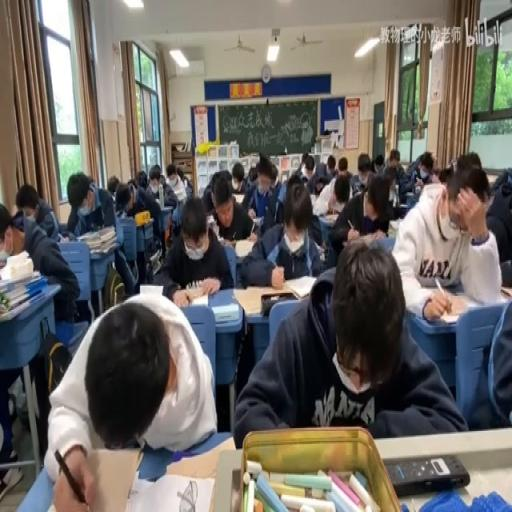calculator: (58, 442, 140, 509), (128, 469, 216, 512), (158, 434, 232, 480), (230, 283, 288, 314), (0, 291, 38, 321), (0, 266, 39, 292), (283, 273, 317, 297), (212, 302, 240, 324), (234, 238, 258, 258), (310, 193, 330, 215), (138, 283, 164, 296), (187, 290, 210, 304), (148, 248, 161, 272), (396, 202, 410, 219), (172, 193, 184, 212), (405, 192, 418, 208), (209, 218, 219, 238), (230, 192, 245, 205), (320, 212, 339, 222), (388, 218, 398, 236), (499, 283, 511, 297), (250, 213, 262, 226), (222, 238, 236, 248), (155, 196, 164, 209), (58, 235, 69, 243)
paper: (236, 244, 462, 442), (0, 190, 78, 466), (390, 160, 501, 312), (242, 180, 322, 286), (158, 192, 232, 299), (462, 286, 510, 429), (328, 171, 394, 256), (66, 169, 114, 238), (485, 166, 512, 263), (400, 148, 438, 202), (154, 164, 180, 234), (200, 168, 234, 216), (112, 245, 137, 297), (0, 204, 21, 258), (464, 164, 490, 204), (304, 155, 329, 193), (348, 155, 370, 195), (380, 151, 402, 185), (228, 158, 246, 193), (334, 175, 350, 205), (174, 164, 190, 192), (285, 172, 304, 191), (106, 175, 120, 196), (372, 152, 384, 174), (298, 152, 310, 174), (438, 165, 451, 185), (134, 171, 148, 189), (148, 165, 160, 186), (269, 162, 278, 189), (466, 151, 482, 166), (247, 166, 258, 184), (338, 155, 347, 174), (118, 204, 130, 218), (326, 155, 335, 172), (166, 164, 175, 180), (126, 176, 136, 190), (450, 156, 458, 170), (428, 155, 435, 171), (159, 175, 166, 183)
person: (386, 454, 470, 496), (230, 466, 242, 510)
